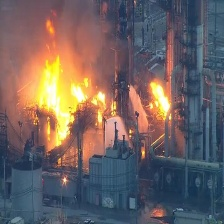fire: (14, 55, 114, 145), (150, 77, 187, 132)
smoke: (1, 1, 120, 49)
